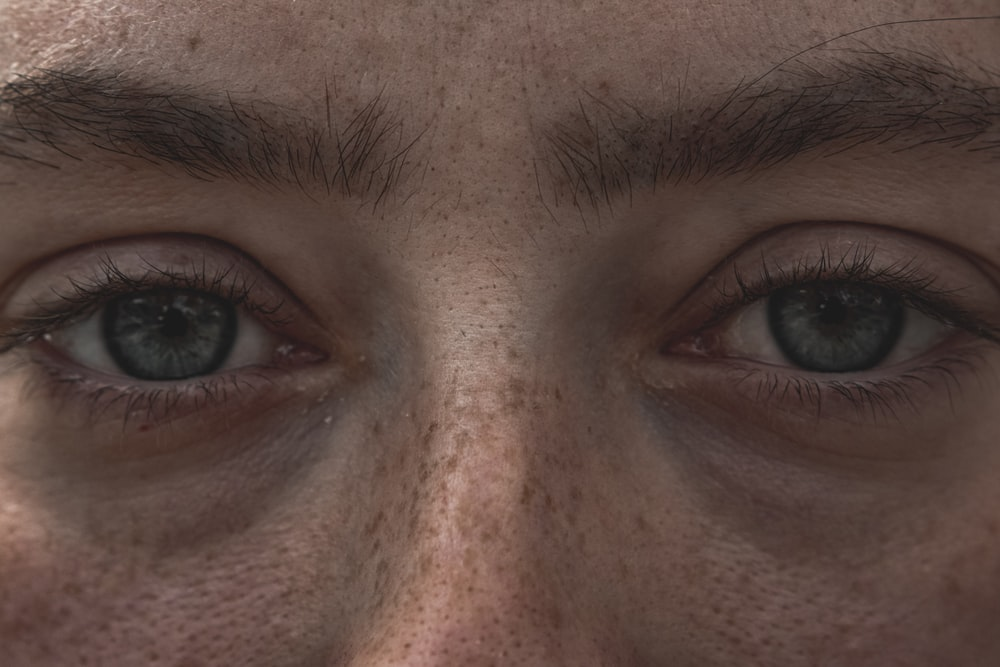face: (1, 4, 996, 663)
